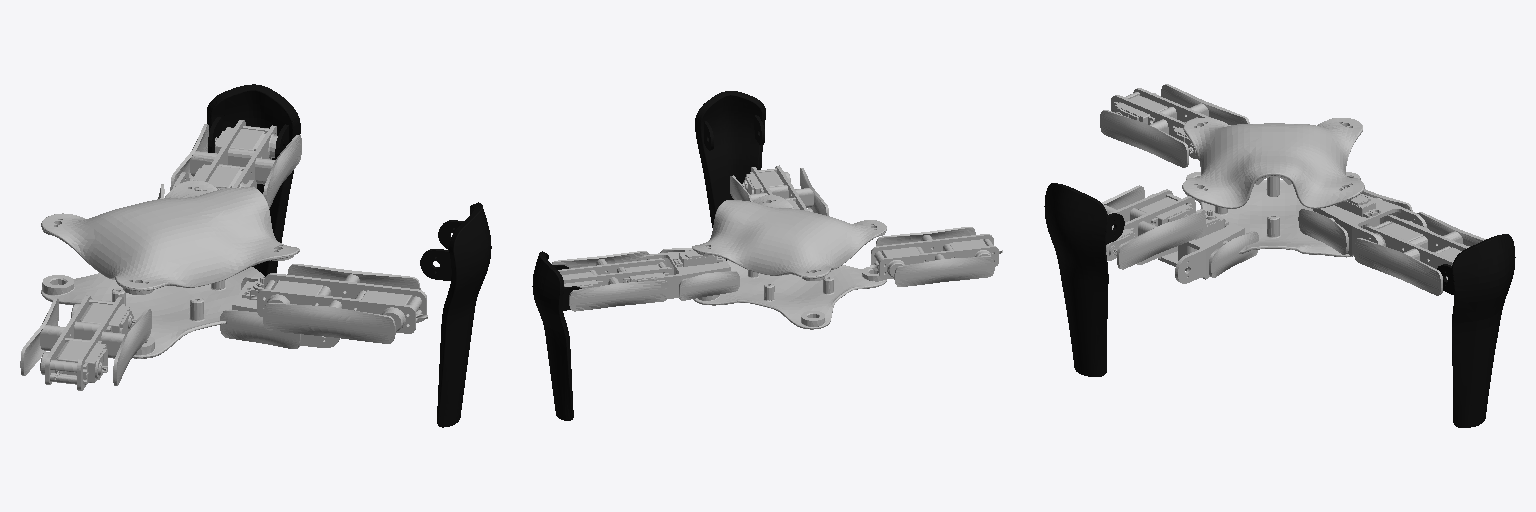
robot.urdf — jebediah:
<robot
  name="jebediah">
  <link
    name="base_link">
    <inertial>
      <origin
        xyz="1.44173913307899E-07 9.5258129717557E-09 1.51352445312836E-07"
        rpy="0 0 0" />
      <mass
        value="0.297355206086086" />
      <inertia
        ixx="0.00102327912793897"
        ixy="-1.0923296250537E-06"
        ixz="-1.70446477679888E-05"
        iyy="0.00112581981927501"
        iyz="-2.26628873195509E-07"
        izz="0.00147666342611158" />
    </inertial>
    <visual>
      <origin
        xyz="0 0 0"
        rpy="0 0 0" />
      <geometry>
        <mesh
          filename="package://jebediah/meshes/base_link.STL" />
      </geometry>
      <material
        name="">
        <color
          rgba="0.752941176470588 0.752941176470588 0.752941176470588 1" />
      </material>
    </visual>
    <collision>
      <origin
        xyz="0 0 0"
        rpy="0 0 0" />
      <geometry>
        <mesh
          filename="package://jebediah/meshes/base_link.STL" />
      </geometry>
    </collision>
  </link>
  <link
    name="Coxa_1">
    <inertial>
      <origin
        xyz="0.0148101329514558 -2.1902843745078E-05 0.0293805312518355"
        rpy="0 0 0" />
      <mass
        value="0.12410445572477" />
      <inertia
        ixx="8.18267102127417E-05"
        ixy="-1.14315933549453E-08"
        ixz="6.14280187684567E-07"
        iyy="7.27029261791945E-05"
        iyz="2.00528242625429E-08"
        izz="0.000120694100470356" />
    </inertial>
    <visual>
      <origin
        xyz="0 0 0"
        rpy="0 0 0" />
      <geometry>
        <mesh
          filename="package://jebediah/meshes/Coxa_1.STL" />
      </geometry>
      <material
        name="">
        <color
          rgba="0.752941176470588 0.752941176470588 0.752941176470588 1" />
      </material>
    </visual>
    <collision>
      <origin
        xyz="0 0 0"
        rpy="0 0 0" />
      <geometry>
        <mesh
          filename="package://jebediah/meshes/Coxa_1.STL" />
      </geometry>
    </collision>
  </link>
  <joint
    name="Servo_Coxa_1"
    type="revolute">
    <origin
      xyz="0.064888 -0.069996 -0.034543"
      rpy="7.3215E-15 -7.4127E-15 -0.78456" />
    <parent
      link="base_link" />
    <child
      link="Coxa_1" />
    <axis
      xyz="0 0 1" />
    <limit
      lower="-1.4"
      upper="1.4"
      effort="0.9"
      velocity="5" />
  </joint>
  <link
    name="Femur_1">
    <inertial>
      <origin
        xyz="0.0514683645082641 0.0268892828548302 1.60365581410998E-05"
        rpy="0 0 0" />
      <mass
        value="0.158175969008051" />
      <inertia
        ixx="8.72872740681003E-05"
        ixy="1.35181067647126E-10"
        ixz="-6.3279240787435E-12"
        iyy="0.000251933770808422"
        iyz="-3.84978191823943E-08"
        izz="0.000324907463142007" />
    </inertial>
    <visual>
      <origin
        xyz="0 0 0"
        rpy="0 0 0" />
      <geometry>
        <mesh
          filename="package://jebediah/meshes/Femur_1.STL" />
      </geometry>
      <material
        name="">
        <color
          rgba="0.752941176470588 0.752941176470588 0.752941176470588 1" />
      </material>
    </visual>
    <collision>
      <origin
        xyz="0 0 0"
        rpy="0 0 0" />
      <geometry>
        <mesh
          filename="package://jebediah/meshes/Femur_1.STL" />
      </geometry>
    </collision>
  </link>
  <joint
    name="Servo_Femur_1_1"
    type="revolute">
    <origin
      xyz="0.064665 -0.028419 0.029"
      rpy="-1.3192E-16 -2.7756E-17 -2.7756E-16" />
    <parent
      link="Coxa_1" />
    <child
      link="Femur_1" />
    <axis
      xyz="0 1 0" />
    <limit
      lower="-1.4"
      upper="1.4"
      effort="0.9"
      velocity="5" />
  </joint>
  <link
    name="Tibia_1">
    <inertial>
      <origin
        xyz="0.0177922229662775 -3.62758954459419E-05 -0.0483129162205185"
        rpy="0 0 0" />
      <mass
        value="0.170868331501115" />
      <inertia
        ixx="0.000589378727235705"
        ixy="3.67753470546182E-09"
        ixz="-6.30008131376603E-05"
        iyy="0.000541031911991726"
        iyz="-9.23620994011666E-09"
        izz="8.24622957395783E-05" />
    </inertial>
    <visual>
      <origin
        xyz="0 0 0"
        rpy="0 0 0" />
      <geometry>
        <mesh
          filename="package://jebediah/meshes/Tibia_1.STL" />
      </geometry>
      <material
        name="">
        <color
          rgba="0.101960784313725 0.101960784313725 0.101960784313725 1" />
      </material>
    </visual>
    <collision>
      <origin
        xyz="0 0 0"
        rpy="0 0 0" />
      <geometry>
        <mesh
          filename="package://jebediah/meshes/Tibia_1.STL" />
      </geometry>
    </collision>
  </link>
  <joint
    name="Servo_Femur_1_2"
    type="revolute">
    <origin
      xyz="0.10294 0.028419 0"
      rpy="8.3049E-16 2.7756E-17 5.3294E-29" />
    <parent
      link="Femur_1" />
    <child
      link="Tibia_1" />
    <axis
      xyz="0 1 0" />
    <limit
      lower="-1.4"
      upper="1.4"
      effort="0.9"
      velocity="5" />
  </joint>
  <link
    name="Coxa_2">
    <inertial>
      <origin
        xyz="0.0148101329517311 -2.19028429722379E-05 0.0293805312515441"
        rpy="0 0 0" />
      <mass
        value="0.124104455718357" />
      <inertia
        ixx="8.18267102017881E-05"
        ixy="-1.14315989131767E-08"
        ixz="6.14280187527743E-07"
        iyy="7.27029261747406E-05"
        iyz="2.00528247122634E-08"
        izz="0.000120694100456064" />
    </inertial>
    <visual>
      <origin
        xyz="0 0 0"
        rpy="0 0 0" />
      <geometry>
        <mesh
          filename="package://jebediah/meshes/Coxa_2.STL" />
      </geometry>
      <material
        name="">
        <color
          rgba="0.752941176470588 0.752941176470588 0.752941176470588 1" />
      </material>
    </visual>
    <collision>
      <origin
        xyz="0 0 0"
        rpy="0 0 0" />
      <geometry>
        <mesh
          filename="package://jebediah/meshes/Coxa_2.STL" />
      </geometry>
    </collision>
  </link>
  <joint
    name="Servo_Coxa_2"
    type="revolute">
    <origin
      xyz="0.064888 0.070004 -0.034543"
      rpy="-7.4916E-15 -7.4004E-15 0.78623" />
    <parent
      link="base_link" />
    <child
      link="Coxa_2" />
    <axis
      xyz="0 0 1" />
    <limit
      lower="-1.4"
      upper="1.4"
      effort="0.9"
      velocity="5" />
  </joint>
  <link
    name="Femur_2">
    <inertial>
      <origin
        xyz="0.0514683645078939 0.0268892828552024 1.60365582139443E-05"
        rpy="0 0 0" />
      <mass
        value="0.158175969006612" />
      <inertia
        ixx="8.72872740651651E-05"
        ixy="1.35178300983411E-10"
        ixz="-6.32836486836297E-12"
        iyy="0.000251933770805777"
        iyz="-3.84978186970565E-08"
        izz="0.000324907463136718" />
    </inertial>
    <visual>
      <origin
        xyz="0 0 0"
        rpy="0 0 0" />
      <geometry>
        <mesh
          filename="package://jebediah/meshes/Femur_2.STL" />
      </geometry>
      <material
        name="">
        <color
          rgba="0.752941176470588 0.752941176470588 0.752941176470588 1" />
      </material>
    </visual>
    <collision>
      <origin
        xyz="0 0 0"
        rpy="0 0 0" />
      <geometry>
        <mesh
          filename="package://jebediah/meshes/Femur_2.STL" />
      </geometry>
    </collision>
  </link>
  <joint
    name="Servo_Femur_2_1"
    type="revolute">
    <origin
      xyz="0.064665 -0.028419 0.029"
      rpy="-1.3192E-16 -2.7756E-17 -3.3307E-16" />
    <parent
      link="Coxa_2" />
    <child
      link="Femur_2" />
    <axis
      xyz="0 -1 0" />
    <limit
      lower="-1.4"
      upper="1.4"
      effort="0.9"
      velocity="5" />
  </joint>
  <link
    name="Tibia_2">
    <inertial>
      <origin
        xyz="0.0177922229561469 -3.62749421672914E-05 -0.0483129162263953"
        rpy="0 0 0" />
      <mass
        value="0.170868347804751" />
      <inertia
        ixx="0.000589378734851685"
        ixy="3.68459478726201E-09"
        ixz="-6.30008134388682E-05"
        iyy="0.000541031918070153"
        iyz="-9.2363030417831E-09"
        izz="8.24623078851052E-05" />
    </inertial>
    <visual>
      <origin
        xyz="0 0 0"
        rpy="0 0 0" />
      <geometry>
        <mesh
          filename="package://jebediah/meshes/Tibia_2.STL" />
      </geometry>
      <material
        name="">
        <color
          rgba="0.101960784313725 0.101960784313725 0.101960784313725 1" />
      </material>
    </visual>
    <collision>
      <origin
        xyz="0 0 0"
        rpy="0 0 0" />
      <geometry>
        <mesh
          filename="package://jebediah/meshes/Tibia_2.STL" />
      </geometry>
    </collision>
  </link>
  <joint
    name="Servo_Femur_2_2"
    type="revolute">
    <origin
      xyz="0.10294 0.028419 0"
      rpy="8.3049E-16 2.7756E-17 -5.6417E-29" />
    <parent
      link="Femur_2" />
    <child
      link="Tibia_2" />
    <axis
      xyz="0 -1 0" />
    <limit
      lower="-1.4"
      upper="1.4"
      effort="0.9"
      velocity="5" />
  </joint>
  <link
    name="Coxa_3">
    <inertial>
      <origin
        xyz="0.0148101326570277 -2.19023552313902E-05 0.0293805312697344"
        rpy="0 0 0" />
      <mass
        value="0.124104457423663" />
      <inertia
        ixx="8.18267125215861E-05"
        ixy="-1.14302324413302E-08"
        ixz="6.14280354579498E-07"
        iyy="7.27029270224408E-05"
        iyz="2.00526271048197E-08"
        izz="0.000120694103697151" />
    </inertial>
    <visual>
      <origin
        xyz="0 0 0"
        rpy="0 0 0" />
      <geometry>
        <mesh
          filename="package://jebediah/meshes/Coxa_3.STL" />
      </geometry>
      <material
        name="">
        <color
          rgba="0.752941176470588 0.752941176470588 0.752941176470588 1" />
      </material>
    </visual>
    <collision>
      <origin
        xyz="0 0 0"
        rpy="0 0 0" />
      <geometry>
        <mesh
          filename="package://jebediah/meshes/Coxa_3.STL" />
      </geometry>
    </collision>
  </link>
  <joint
    name="Servo_Coxa_3"
    type="revolute">
    <origin
      xyz="-0.075112 0.070004 -0.034543"
      rpy="-7.4792E-15 7.4127E-15 2.357" />
    <parent
      link="base_link" />
    <child
      link="Coxa_3" />
    <axis
      xyz="0 0 1" />
    <limit
      lower="-1.4"
      upper="1.4"
      effort="0.9"
      velocity="5" />
  </joint>
  <link
    name="Femur">
    <inertial>
      <origin
        xyz="0.0514683645077476 0.0268892828552327 1.60365582145272E-05"
        rpy="0 0 0" />
      <mass
        value="0.158175969006369" />
      <inertia
        ixx="8.72872740646768E-05"
        ixy="1.35183478655545E-10"
        ixz="-6.32861209229775E-12"
        iyy="0.000251933770805324"
        iyz="-3.84978183221189E-08"
        izz="0.000324907463135824" />
    </inertial>
    <visual>
      <origin
        xyz="0 0 0"
        rpy="0 0 0" />
      <geometry>
        <mesh
          filename="package://jebediah/meshes/Femur.STL" />
      </geometry>
      <material
        name="">
        <color
          rgba="0.752941176470588 0.752941176470588 0.752941176470588 1" />
      </material>
    </visual>
    <collision>
      <origin
        xyz="0 0 0"
        rpy="0 0 0" />
      <geometry>
        <mesh
          filename="package://jebediah/meshes/Femur.STL" />
      </geometry>
    </collision>
  </link>
  <joint
    name="Servo_Femur_3_1"
    type="revolute">
    <origin
      xyz="0.064665 -0.028419 0.029"
      rpy="-1.3192E-16 -2.7756E-17 -3.3307E-16" />
    <parent
      link="Coxa_3" />
    <child
      link="Femur" />
    <axis
      xyz="0 -1 0" />
    <limit
      lower="-1.4"
      upper="1.4"
      effort="0.9"
      velocity="5" />
  </joint>
  <link
    name="Tibia_3">
    <inertial>
      <origin
        xyz="0.0177922232663992 -3.62750899647185E-05 -0.0483129161448379"
        rpy="0 0 0" />
      <mass
        value="0.170868354393158" />
      <inertia
        ixx="0.000589378732711979"
        ixy="3.68380068005006E-09"
        ixz="-6.30008133875489E-05"
        iyy="0.000541031916342638"
        iyz="-9.23640343546084E-09"
        izz="8.24623050717877E-05" />
    </inertial>
    <visual>
      <origin
        xyz="0 0 0"
        rpy="0 0 0" />
      <geometry>
        <mesh
          filename="package://jebediah/meshes/Tibia_3.STL" />
      </geometry>
      <material
        name="">
        <color
          rgba="0.101960784313725 0.101960784313725 0.101960784313725 1" />
      </material>
    </visual>
    <collision>
      <origin
        xyz="0 0 0"
        rpy="0 0 0" />
      <geometry>
        <mesh
          filename="package://jebediah/meshes/Tibia_3.STL" />
      </geometry>
    </collision>
  </link>
  <joint
    name="Servo_Femur_3_2"
    type="revolute">
    <origin
      xyz="0.10294 0.028419 0"
      rpy="8.3049E-16 2.7756E-17 5.6419E-29" />
    <parent
      link="Femur" />
    <child
      link="Tibia_3" />
    <axis
      xyz="0 -1 0" />
    <limit
      lower="-1.4"
      upper="1.4"
      effort="0.9"
      velocity="5" />
  </joint>
  <link
    name="Coxa_4">
    <inertial>
      <origin
        xyz="0.0148101329345743 -2.19028378360409E-05 0.029380531226478"
        rpy="0 0 0" />
      <mass
        value="0.124104456070875" />
      <inertia
        ixx="8.18267107587151E-05"
        ixy="-1.14318477477996E-08"
        ixz="6.14280170284984E-07"
        iyy="7.27029262506899E-05"
        iyz="2.00528307914144E-08"
        izz="0.000120694101201601" />
    </inertial>
    <visual>
      <origin
        xyz="0 0 0"
        rpy="0 0 0" />
      <geometry>
        <mesh
          filename="package://jebediah/meshes/Coxa_4.STL" />
      </geometry>
      <material
        name="">
        <color
          rgba="0.752941176470588 0.752941176470588 0.752941176470588 1" />
      </material>
    </visual>
    <collision>
      <origin
        xyz="0 0 0"
        rpy="0 0 0" />
      <geometry>
        <mesh
          filename="package://jebediah/meshes/Coxa_4.STL" />
      </geometry>
    </collision>
  </link>
  <joint
    name="Serv_Coxa_4"
    type="revolute">
    <origin
      xyz="-0.075112 -0.069996 -0.034543"
      rpy="7.3339E-15 7.4004E-15 -2.3554" />
    <parent
      link="base_link" />
    <child
      link="Coxa_4" />
    <axis
      xyz="0 0 1" />
    <limit
      lower="-1.4"
      upper="1.4"
      effort="0.9"
      velocity="5" />
  </joint>
  <link
    name="Femur_4">
    <inertial>
      <origin
        xyz="0.0514683645074522 0.0268892828547454 1.60365581585997E-05"
        rpy="0 0 0" />
      <mass
        value="0.158175969007339" />
      <inertia
        ixx="8.72872740667591E-05"
        ixy="1.35179148138616E-10"
        ixz="-6.32898688153183E-12"
        iyy="0.000251933770806947"
        iyz="-3.84978194716861E-08"
        izz="0.000324907463139296" />
    </inertial>
    <visual>
      <origin
        xyz="0 0 0"
        rpy="0 0 0" />
      <geometry>
        <mesh
          filename="package://jebediah/meshes/Femur_4.STL" />
      </geometry>
      <material
        name="">
        <color
          rgba="0.752941176470588 0.752941176470588 0.752941176470588 1" />
      </material>
    </visual>
    <collision>
      <origin
        xyz="0 0 0"
        rpy="0 0 0" />
      <geometry>
        <mesh
          filename="package://jebediah/meshes/Femur_4.STL" />
      </geometry>
    </collision>
  </link>
  <joint
    name="Servo_Femur_4_1"
    type="revolute">
    <origin
      xyz="0.064665 -0.028419 0.029"
      rpy="-1.3192E-16 -2.7756E-17 -2.7756E-16" />
    <parent
      link="Coxa_4" />
    <child
      link="Femur_4" />
    <axis
      xyz="0 1 0" />
    <limit
      lower="-1.4"
      upper="1.4"
      effort="0.9"
      velocity="5" />
  </joint>
  <link
    name="Tibia_4">
    <inertial>
      <origin
        xyz="0.0177922229702461 -3.62758977275057E-05 -0.0483129162061354"
        rpy="0 0 0" />
      <mass
        value="0.170868331464115" />
      <inertia
        ixx="0.000589378727123221"
        ixy="3.67752621924847E-09"
        ixz="-6.30008130993154E-05"
        iyy="0.000541031911870598"
        iyz="-9.23624642233622E-09"
        izz="8.24622957251046E-05" />
    </inertial>
    <visual>
      <origin
        xyz="0 0 0"
        rpy="0 0 0" />
      <geometry>
        <mesh
          filename="package://jebediah/meshes/Tibia_4.STL" />
      </geometry>
      <material
        name="">
        <color
          rgba="0.101960784313725 0.101960784313725 0.101960784313725 1" />
      </material>
    </visual>
    <collision>
      <origin
        xyz="0 0 0"
        rpy="0 0 0" />
      <geometry>
        <mesh
          filename="package://jebediah/meshes/Tibia_4.STL" />
      </geometry>
    </collision>
  </link>
  <joint
    name="Servo_Femur_4_2"
    type="revolute">
    <origin
      xyz="0.10294 0.028419 0"
      rpy="8.3049E-16 2.7756E-17 -5.3297E-29" />
    <parent
      link="Femur_4" />
    <child
      link="Tibia_4" />
    <axis
      xyz="0 1 0" />
    <limit
      lower="-1.4"
      upper="1.4"
      effort="0.9"
      velocity="5" />
  </joint>
</robot>

--- Facts derived from the render (not from the file) ---
3 views of the same robot in one strip: view 1: azimuth 30°, elevation 25°; view 2: azimuth 150°, elevation 25°; view 3: azimuth 270°, elevation 25° (orthographic).
Model jebediah with 13 links and 12 joints (12 revolute), rooted at base_link, posed all joints at 0.
Links seen in each view (by area): view 1: base_link, Femur_1, Femur_4, Tibia_1, Femur_2, Tibia_2, Coxa_1; view 2: base_link, Femur_4, Tibia_1, Femur_2, Tibia_2, Coxa_2, Femur_1; view 3: base_link, Tibia_1, Tibia_2, Femur_4, Femur_2, Femur_1, Coxa_2, Coxa_1.
Link boxes in pixels (left/top/right/bottom): base_link: left=41, top=180, right=299, bottom=358; Femur_1: left=251, top=264, right=427, bottom=343; Femur_4: left=20, top=295, right=151, bottom=390; Tibia_1: left=420, top=202, right=491, bottom=427; Femur_2: left=170, top=120, right=301, bottom=208; Tibia_2: left=207, top=84, right=300, bottom=276; Coxa_1: left=220, top=276, right=339, bottom=348; base_link: left=692, top=195, right=886, bottom=329; Femur_4: left=870, top=227, right=1002, bottom=286; Tibia_1: left=695, top=91, right=765, bottom=260; Femur_2: left=552, top=251, right=673, bottom=311; Tibia_2: left=532, top=251, right=581, bottom=420; Coxa_2: left=637, top=246, right=739, bottom=300; Femur_1: left=730, top=165, right=828, bottom=215; base_link: left=1182, top=118, right=1364, bottom=257; Tibia_1: left=1044, top=183, right=1124, bottom=376; Tibia_2: left=1437, top=234, right=1515, bottom=427; Femur_4: left=1100, top=84, right=1249, bottom=167; Femur_2: left=1354, top=212, right=1485, bottom=295; Femur_1: left=1102, top=185, right=1205, bottom=269; Coxa_2: left=1298, top=187, right=1427, bottom=255; Coxa_1: left=1137, top=209, right=1258, bottom=283.
Bounding box of the posed robot: 0.4425 × 0.4533 × 0.253 m (x, y, z).
Meshes: 13 distinct files referenced, 8 mesh visuals loaded (8 binary STL); not drawn: 5 (reference not matched to a file when rendering).
